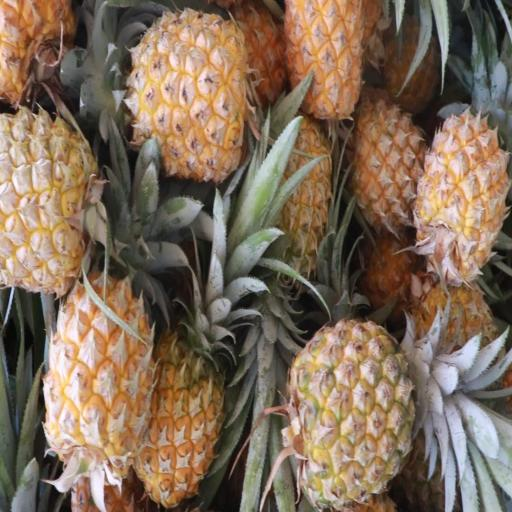------------------------------: (291, 316, 489, 507)
Pineapple - v8 v1: (44, 262, 156, 504), (134, 243, 232, 509), (106, 9, 249, 178), (233, 98, 329, 317), (406, 107, 512, 303), (350, 94, 425, 236)
